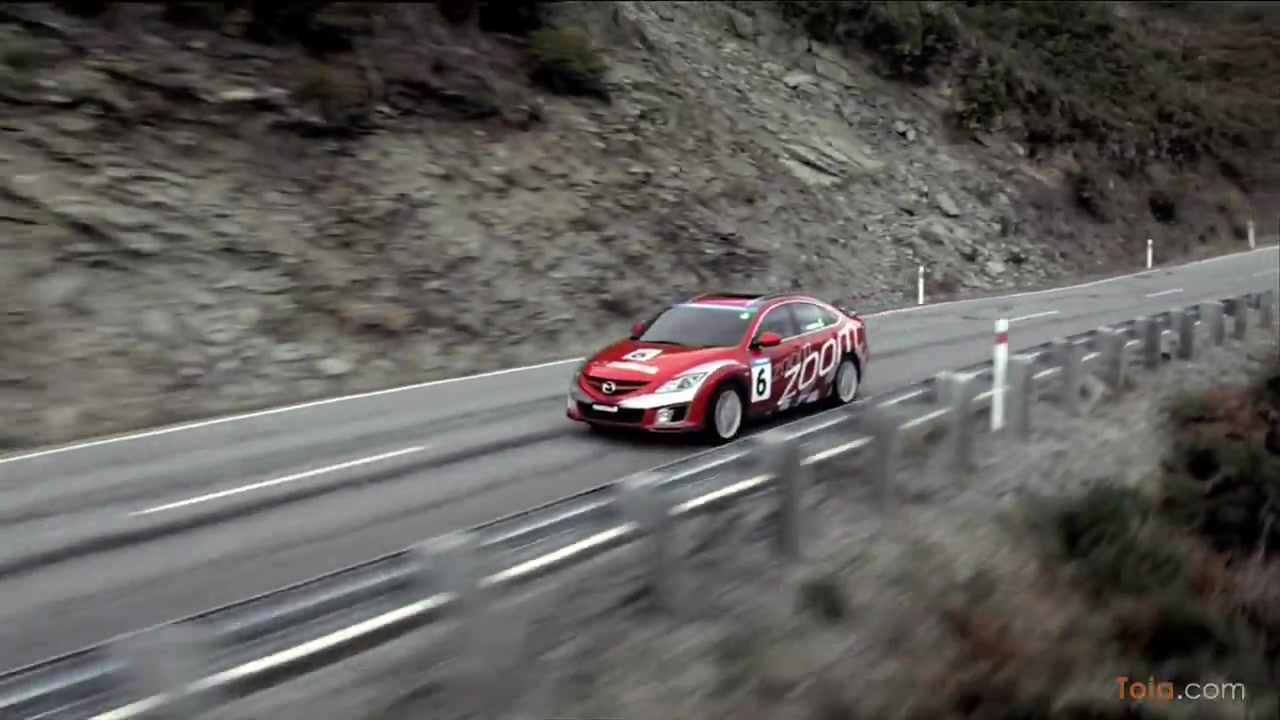car: (569, 288, 872, 448)
